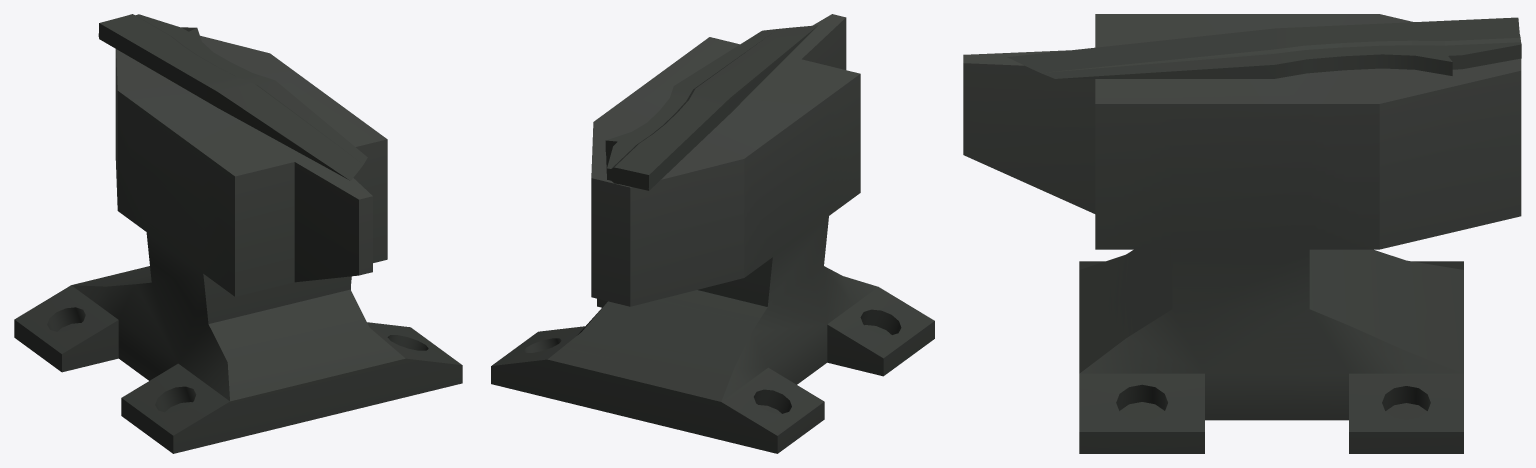
File: forge1.fbx
The picture shows the model from 3 angles, left to right: view 1: azimuth 30°, elevation 25°; view 2: azimuth 150°, elevation 25°; view 3: azimuth 270°, elevation 25°; orthographic projection. The views are drawn at different scales.
Visible parts, largest first — view 1: forge1; view 2: forge1; view 3: forge1.
Part boxes in pixels (box(x1,y1,x2,y2)): forge1: box(14, 14, 462, 453); forge1: box(491, 14, 934, 453); forge1: box(963, 14, 1521, 453).
Size of the model in its own units: 5.13 by 4.61 by 7.09.
